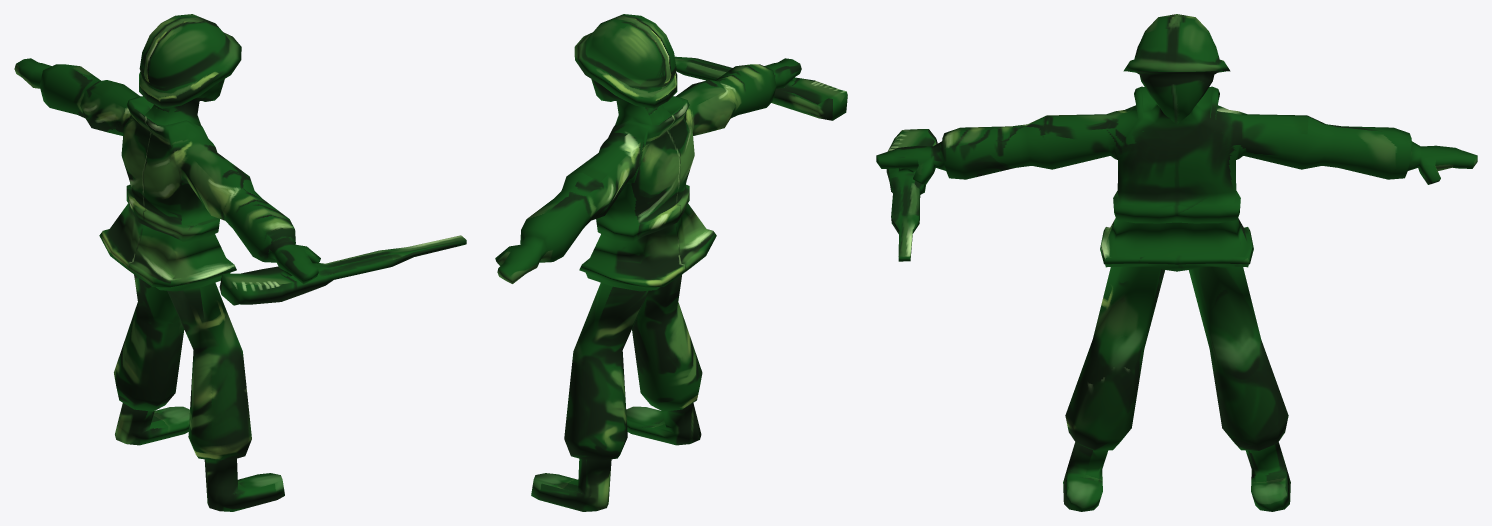
File: SoldierRun.fbx
3 views of the same model, side by side, from view 1: azimuth 30°, elevation 25°; view 2: azimuth 150°, elevation 25°; view 3: azimuth 270°, elevation 25° (orthographic). The views are drawn at different scales.
Visible parts, largest first — view 1: Cube.004; view 2: Cube.004; view 3: Cube.004.
Boxes of the visible parts, bbox=[...] form: Cube.004: bbox=[14, 14, 466, 511]; Cube.004: bbox=[495, 14, 847, 511]; Cube.004: bbox=[876, 14, 1477, 511].
Bounding box in the file's own units: 1381 × 2585 × 3002.
